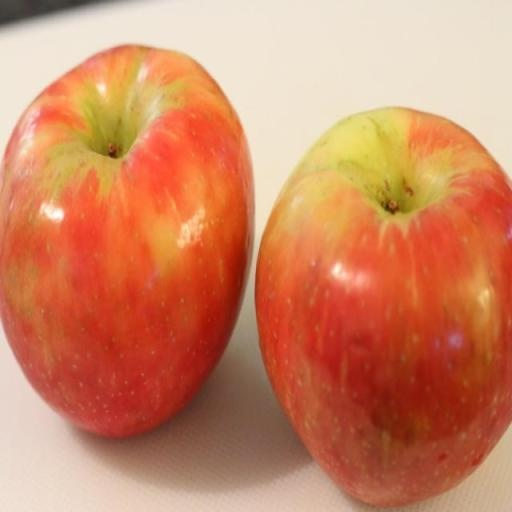fruit: (121, 113, 386, 379), (499, 194, 512, 512)
